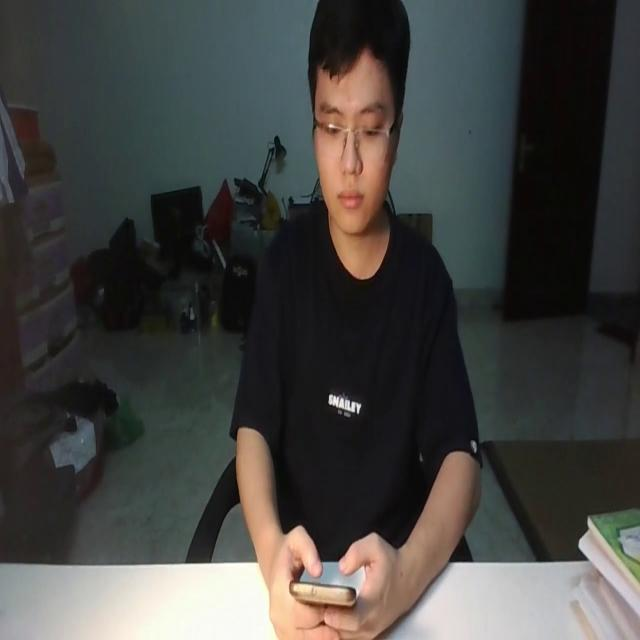phone: (288, 575, 356, 609)
student: (230, 0, 486, 640)
